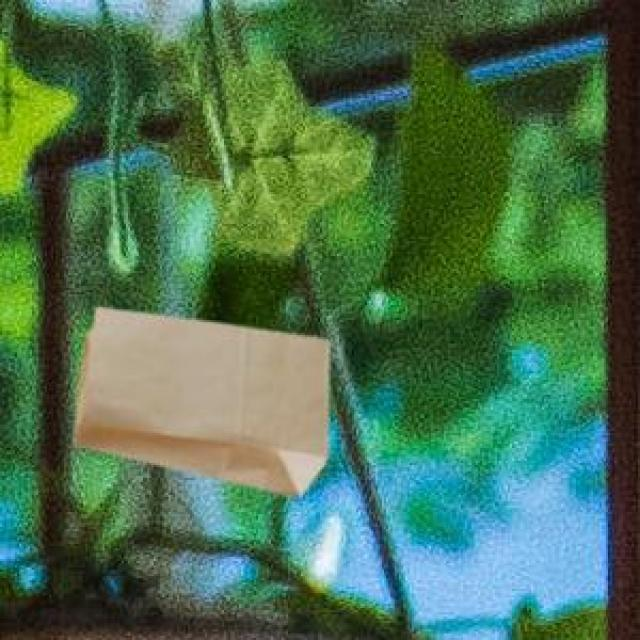paper: (72, 303, 326, 493)
